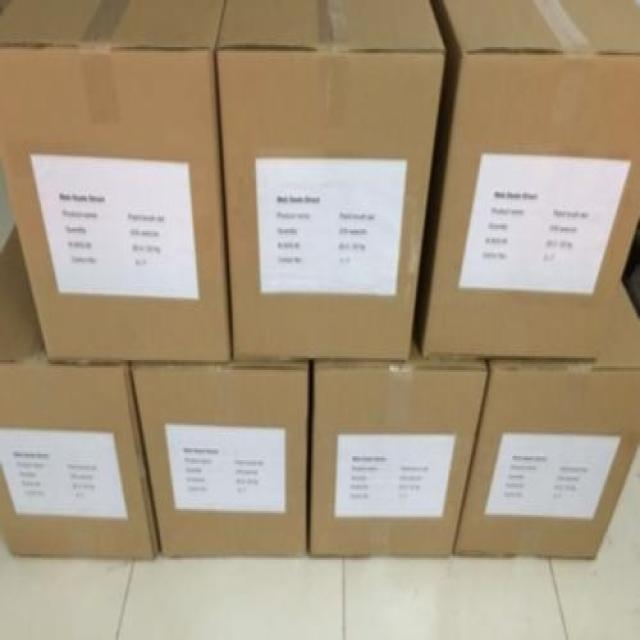box: (215, 0, 445, 362), (412, 0, 640, 358), (0, 221, 160, 560), (453, 278, 640, 560), (308, 335, 490, 556), (129, 362, 310, 558)
